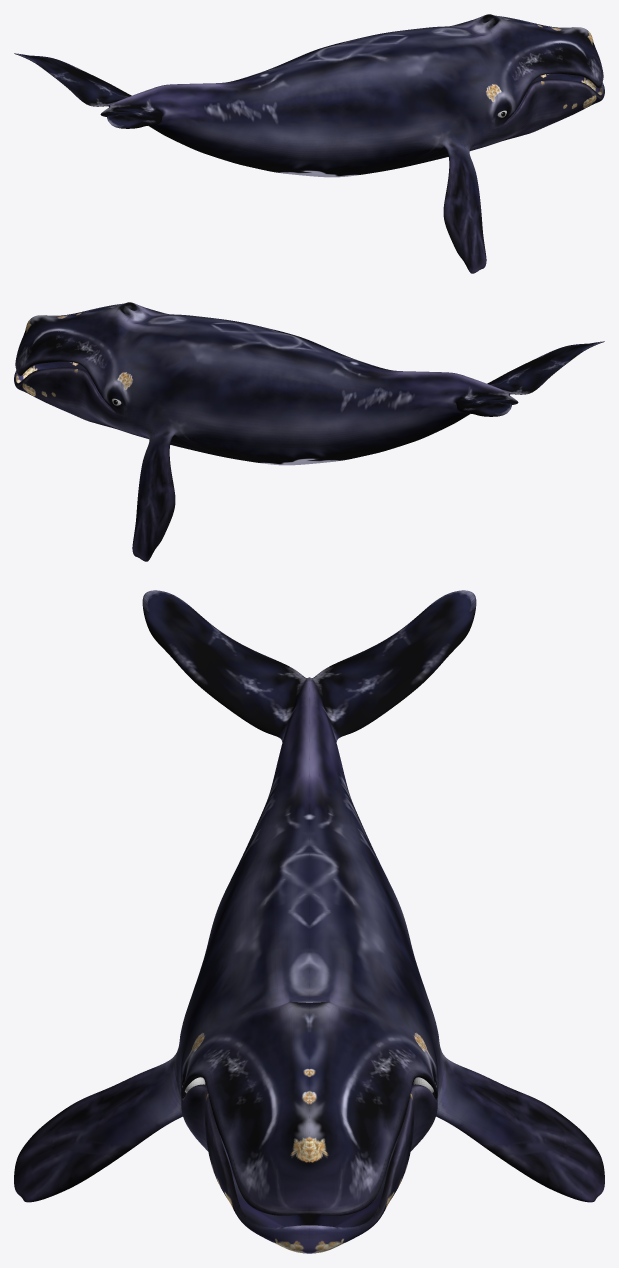
3 views of the same model, one above another, from view 1: azimuth 30°, elevation 25°; view 2: azimuth 150°, elevation 25°; view 3: azimuth 270°, elevation 25° (orthographic). The views are drawn at different scales.
Parts seen in each view (by area): view 1: Cube; view 2: Cube; view 3: Cube.
Part boxes in pixels (bbox=[...]): Cube: bbox=[14, 14, 604, 273]; Cube: bbox=[14, 302, 604, 561]; Cube: bbox=[14, 590, 604, 1253].
Size of the model in its own units: 8.75 by 3.13 by 4.98.
2 materials, 2 textured.
